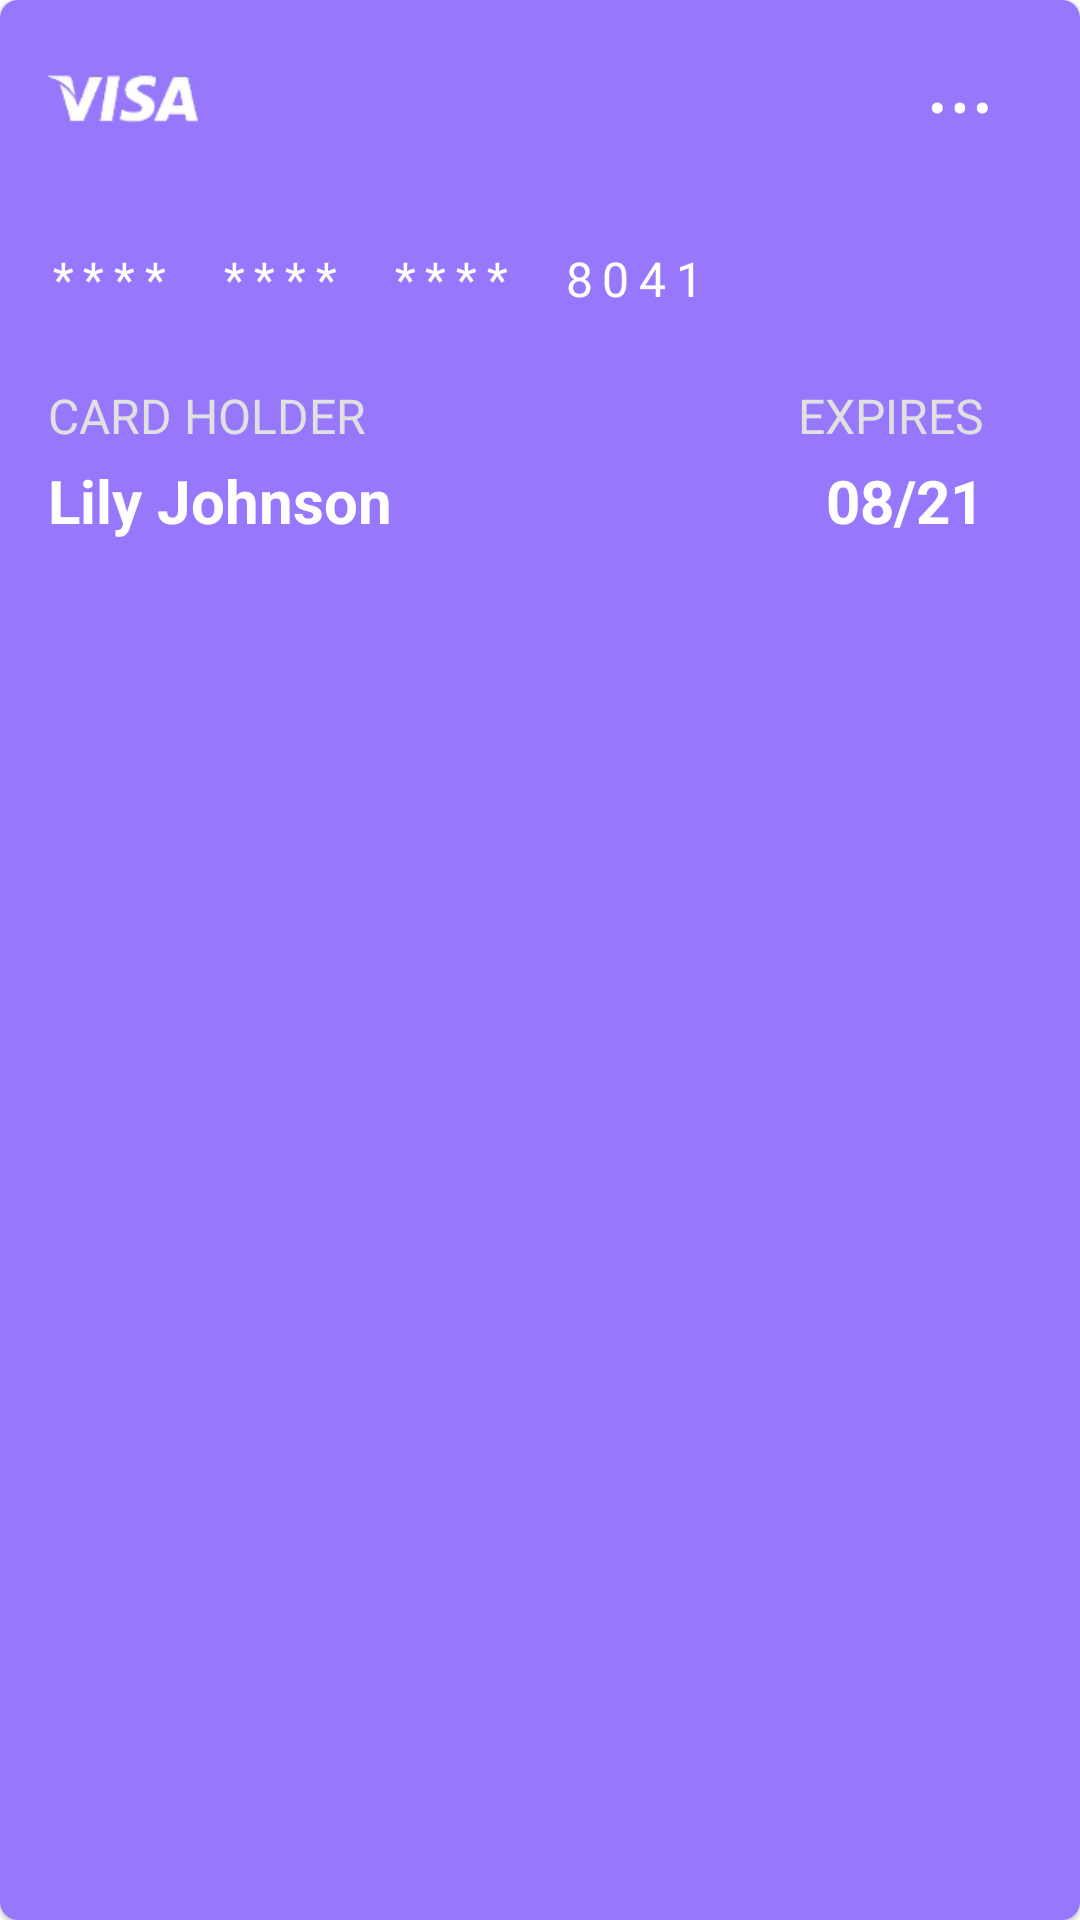

Where to tap for icons on this 1080px×1920px app screen, as point (x, y):
dots: point (959, 108)
